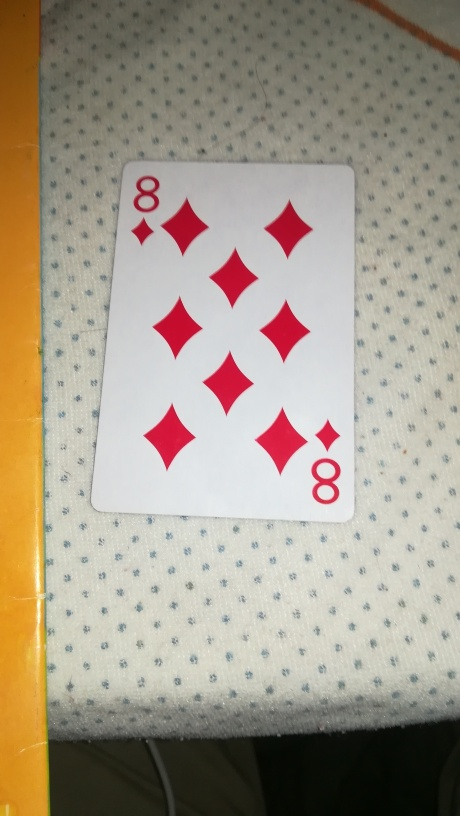fk 8: (84, 157, 357, 529)
